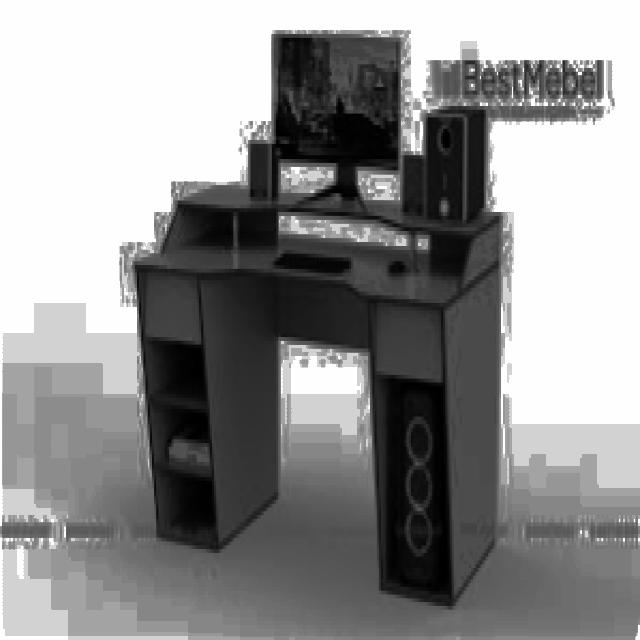table: (133, 182, 501, 606)
